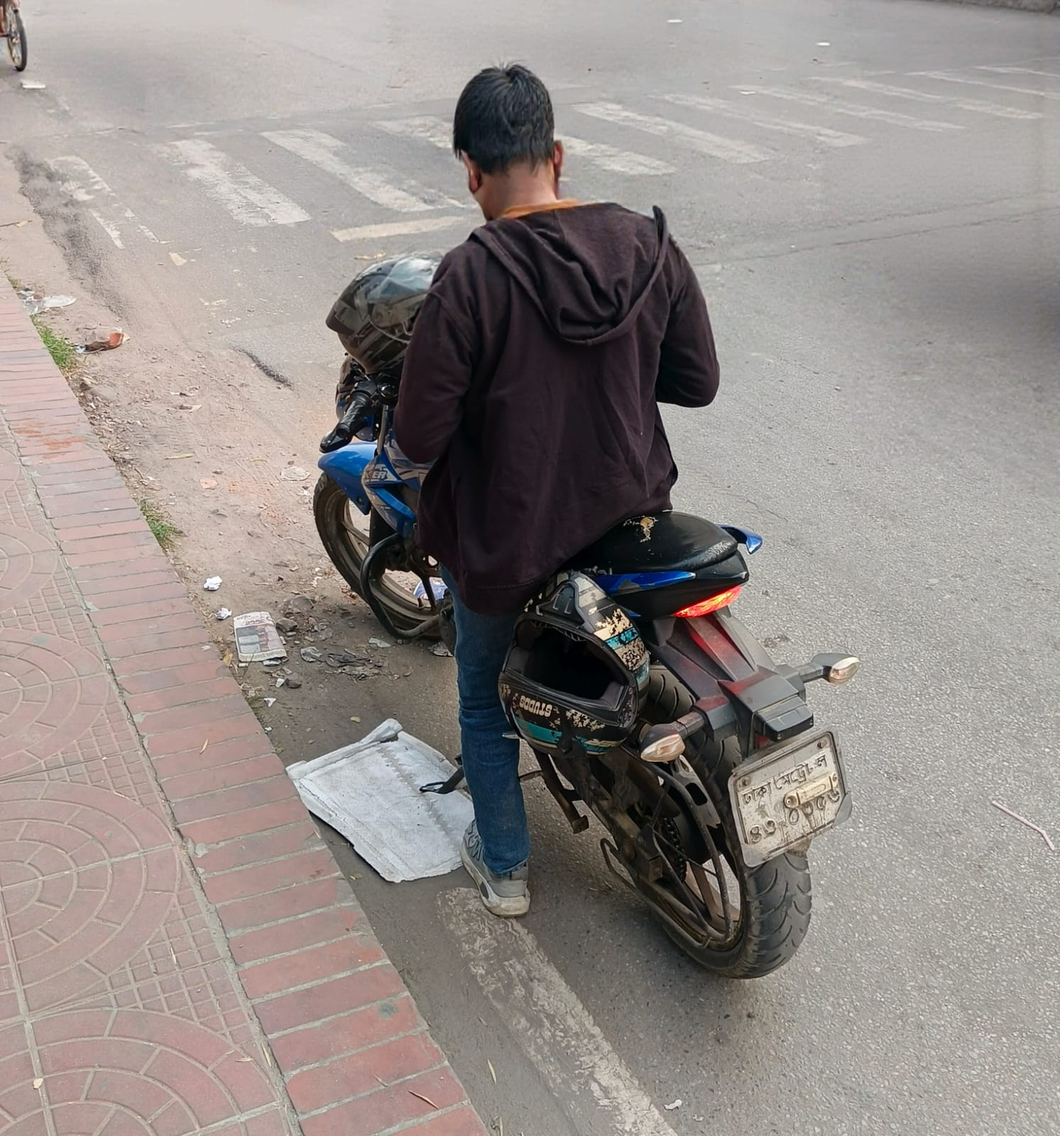Bikes: (275, 88, 922, 976)
